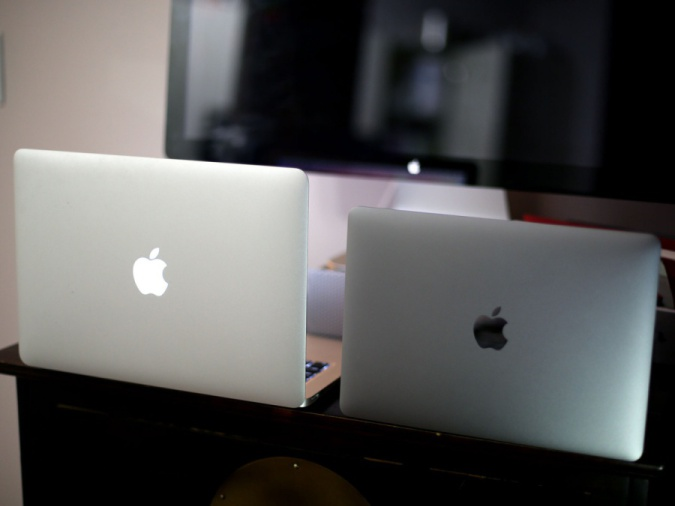apple: (462, 292, 520, 357), (128, 243, 185, 305)
